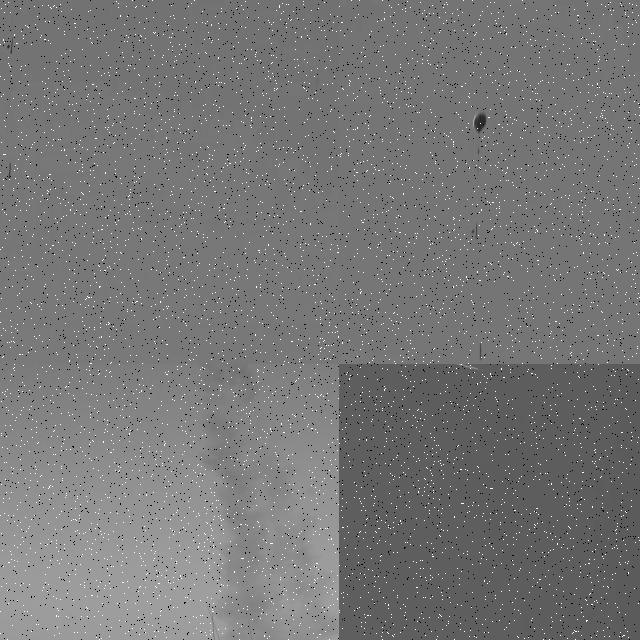Rocket: (479, 341, 482, 360), (9, 162, 11, 180), (479, 369, 485, 373)
